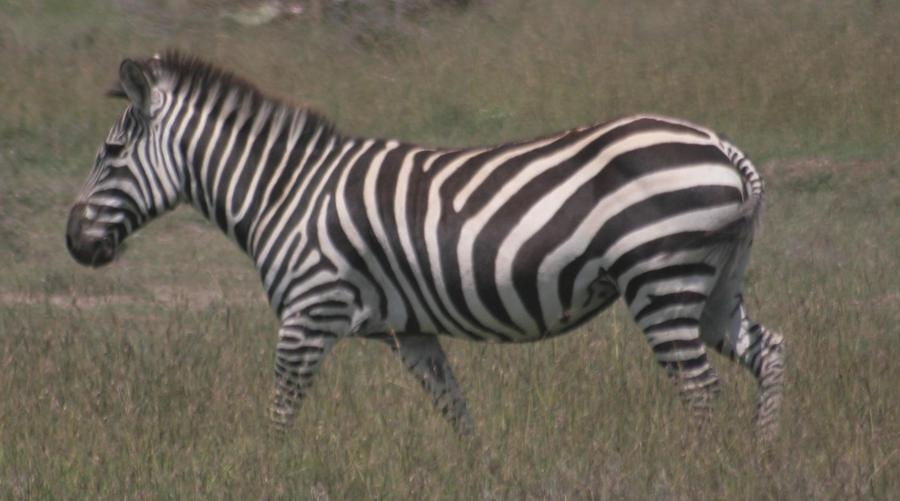zebra_plains: (219, 109, 749, 331)
